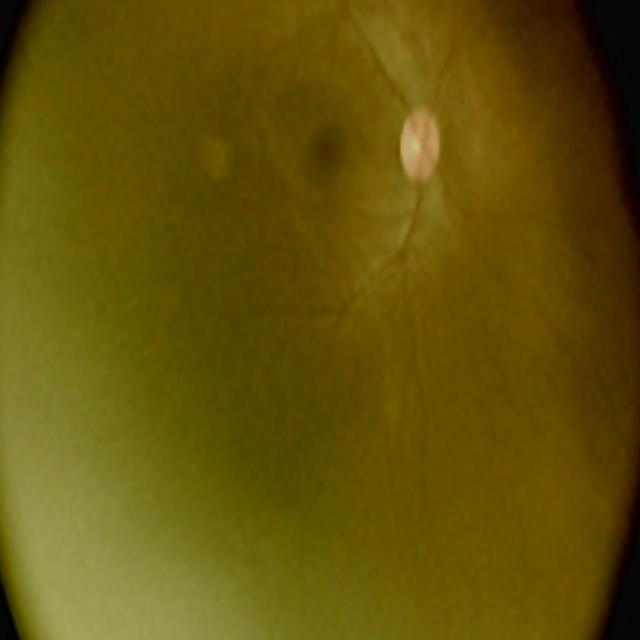optic-nerve: (370, 73, 479, 245)
